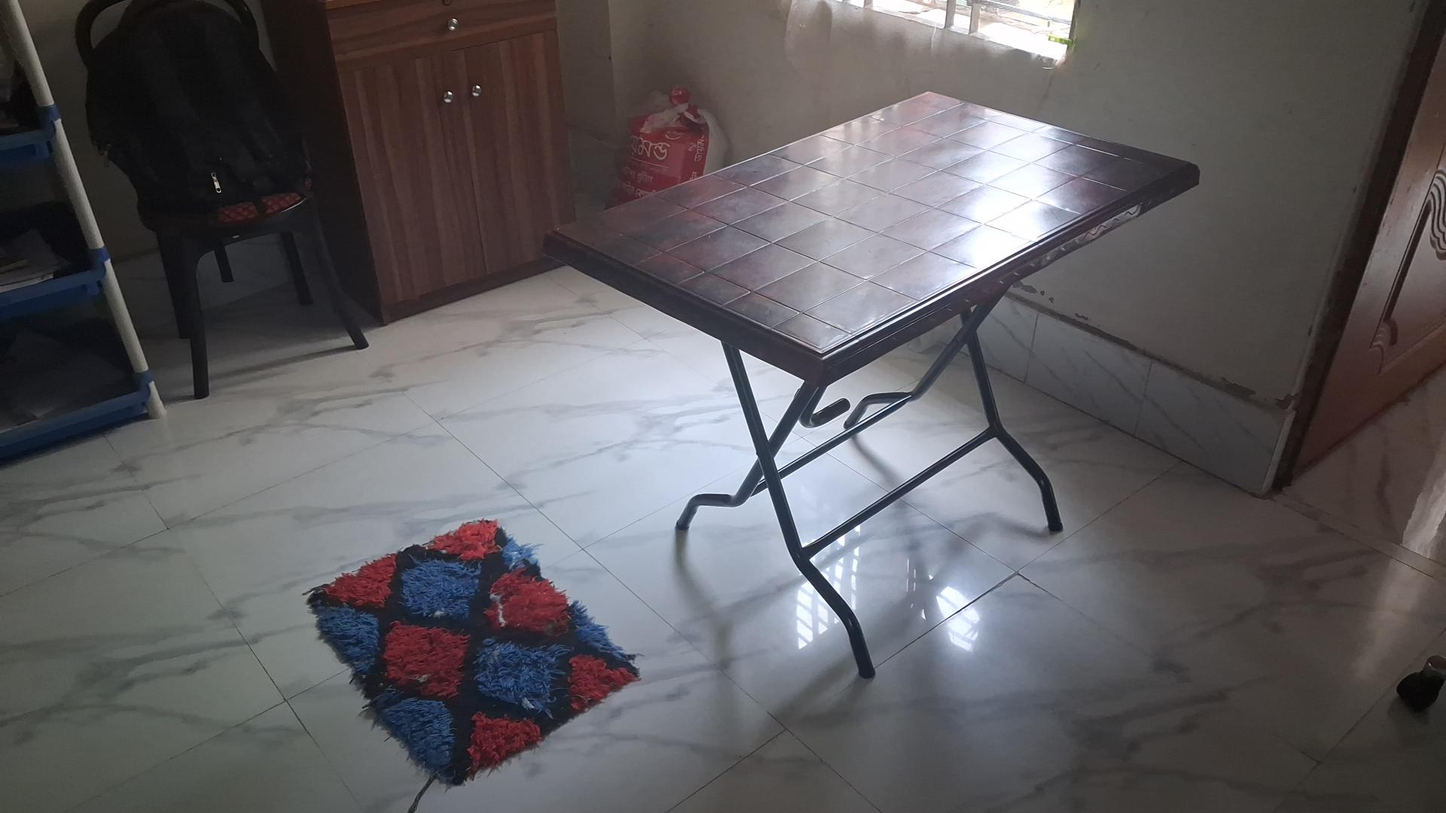Bag: (96, 2, 290, 221), (629, 94, 738, 195)
Chair: (75, 2, 372, 400)
Floor Mat: (308, 524, 639, 785)
Rack: (0, 2, 169, 466)
Table: (548, 86, 1202, 686)
